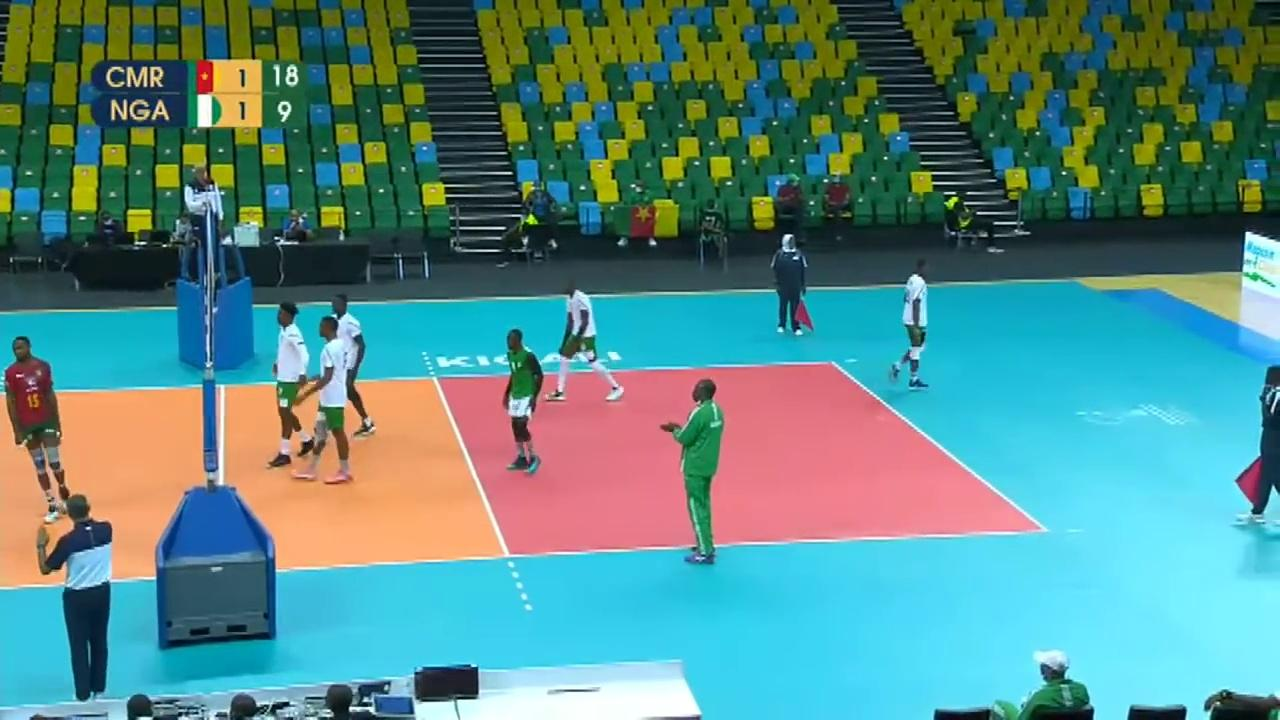player: (3, 339, 76, 520), (298, 313, 357, 485), (319, 294, 379, 439), (271, 303, 320, 467), (552, 284, 620, 400), (500, 332, 543, 471), (894, 261, 931, 386)
refree: (39, 491, 116, 705), (1243, 354, 1280, 526), (184, 162, 230, 270), (773, 233, 816, 336)
